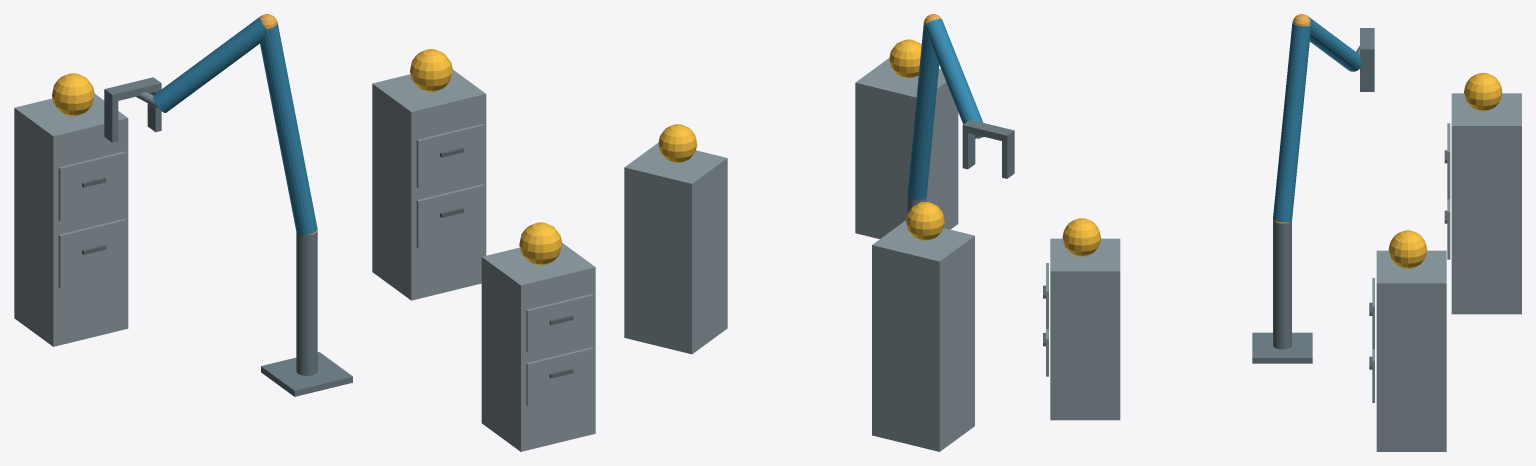
3 views of the same model, side by side, from view 1: azimuth 30°, elevation 25°; view 2: azimuth 150°, elevation 25°; view 3: azimuth 270°, elevation 25° (orthographic). The views are drawn at different scales.
Parts seen in each view (by area): view 1: cabinet_3 body, cabinet_2 body, cabinet_1 body, moving link 1, cabinet_3 drawer front, cabinet_3 drawer front.001, cabinet_2 drawer front, cabinet_2 drawer front.001, fixed post, moving link 2, cabinet_1 drawer front, cabinet_1 drawer front.001 (+6 smaller); view 2: cabinet_3 body, cabinet_2 body, cabinet_1 body, moving link 1, moving link 2, released ball_2, ball ball_3, released ball_1, gripper bridge, gripper finger 1, gripper finger -1; view 3: cabinet_3 body, cabinet_2 body, cabinet_1 body, moving link 1, fixed post, pedestal, moving link 2, released ball_2, ball ball_3, released ball_1, gripper finger 1.
Boxes of the visible parts, left/top/right/bottom form: cabinet_3 body: left=14, top=94, right=128, bottom=346; cabinet_2 body: left=372, top=69, right=486, bottom=300; cabinet_1 body: left=481, top=243, right=595, bottom=451; moving link 1: left=260, top=23, right=317, bottom=235; cabinet_3 drawer front: left=58, top=219, right=126, bottom=288; cabinet_3 drawer front.001: left=58, top=151, right=126, bottom=221; cabinet_2 drawer front: left=416, top=184, right=484, bottom=248; cabinet_2 drawer front.001: left=416, top=124, right=484, bottom=187; fixed post: left=296, top=232, right=317, bottom=375; moving link 2: left=153, top=16, right=266, bottom=112; cabinet_1 drawer front: left=526, top=347, right=593, bottom=405; cabinet_1 drawer front.001: left=526, top=294, right=593, bottom=352; cabinet_3 body: left=872, top=220, right=974, bottom=451; cabinet_2 body: left=624, top=142, right=727, bottom=354; cabinet_1 body: left=855, top=58, right=958, bottom=238; moving link 1: left=907, top=22, right=939, bottom=200; moving link 2: left=925, top=19, right=983, bottom=138; released ball_2: left=658, top=124, right=697, bottom=162; ball ball_3: left=906, top=202, right=944, bottom=240; released ball_1: left=889, top=39, right=921, bottom=78; gripper bridge: left=962, top=119, right=1014, bottom=142; gripper finger 1: left=962, top=131, right=975, bottom=169; gripper finger -1: left=1002, top=137, right=1014, bottom=178; cabinet_3 body: left=1451, top=93, right=1521, bottom=314; cabinet_2 body: left=1376, top=250, right=1446, bottom=451; cabinet_1 body: left=1050, top=238, right=1120, bottom=420; moving link 1: left=1273, top=23, right=1310, bottom=222; fixed post: left=1273, top=220, right=1291, bottom=349; pedestal: left=1252, top=332, right=1312, bottom=363; moving link 2: left=1306, top=15, right=1362, bottom=71; released ball_2: left=1388, top=230, right=1427, bottom=268; ball ball_3: left=1464, top=72, right=1502, bottom=111; released ball_1: left=1062, top=218, right=1100, bottom=256; gripper finger 1: left=1360, top=56, right=1374, bottom=91.
Bounding box in the file's own units: 1.67 × 1.48 × 1.98.
